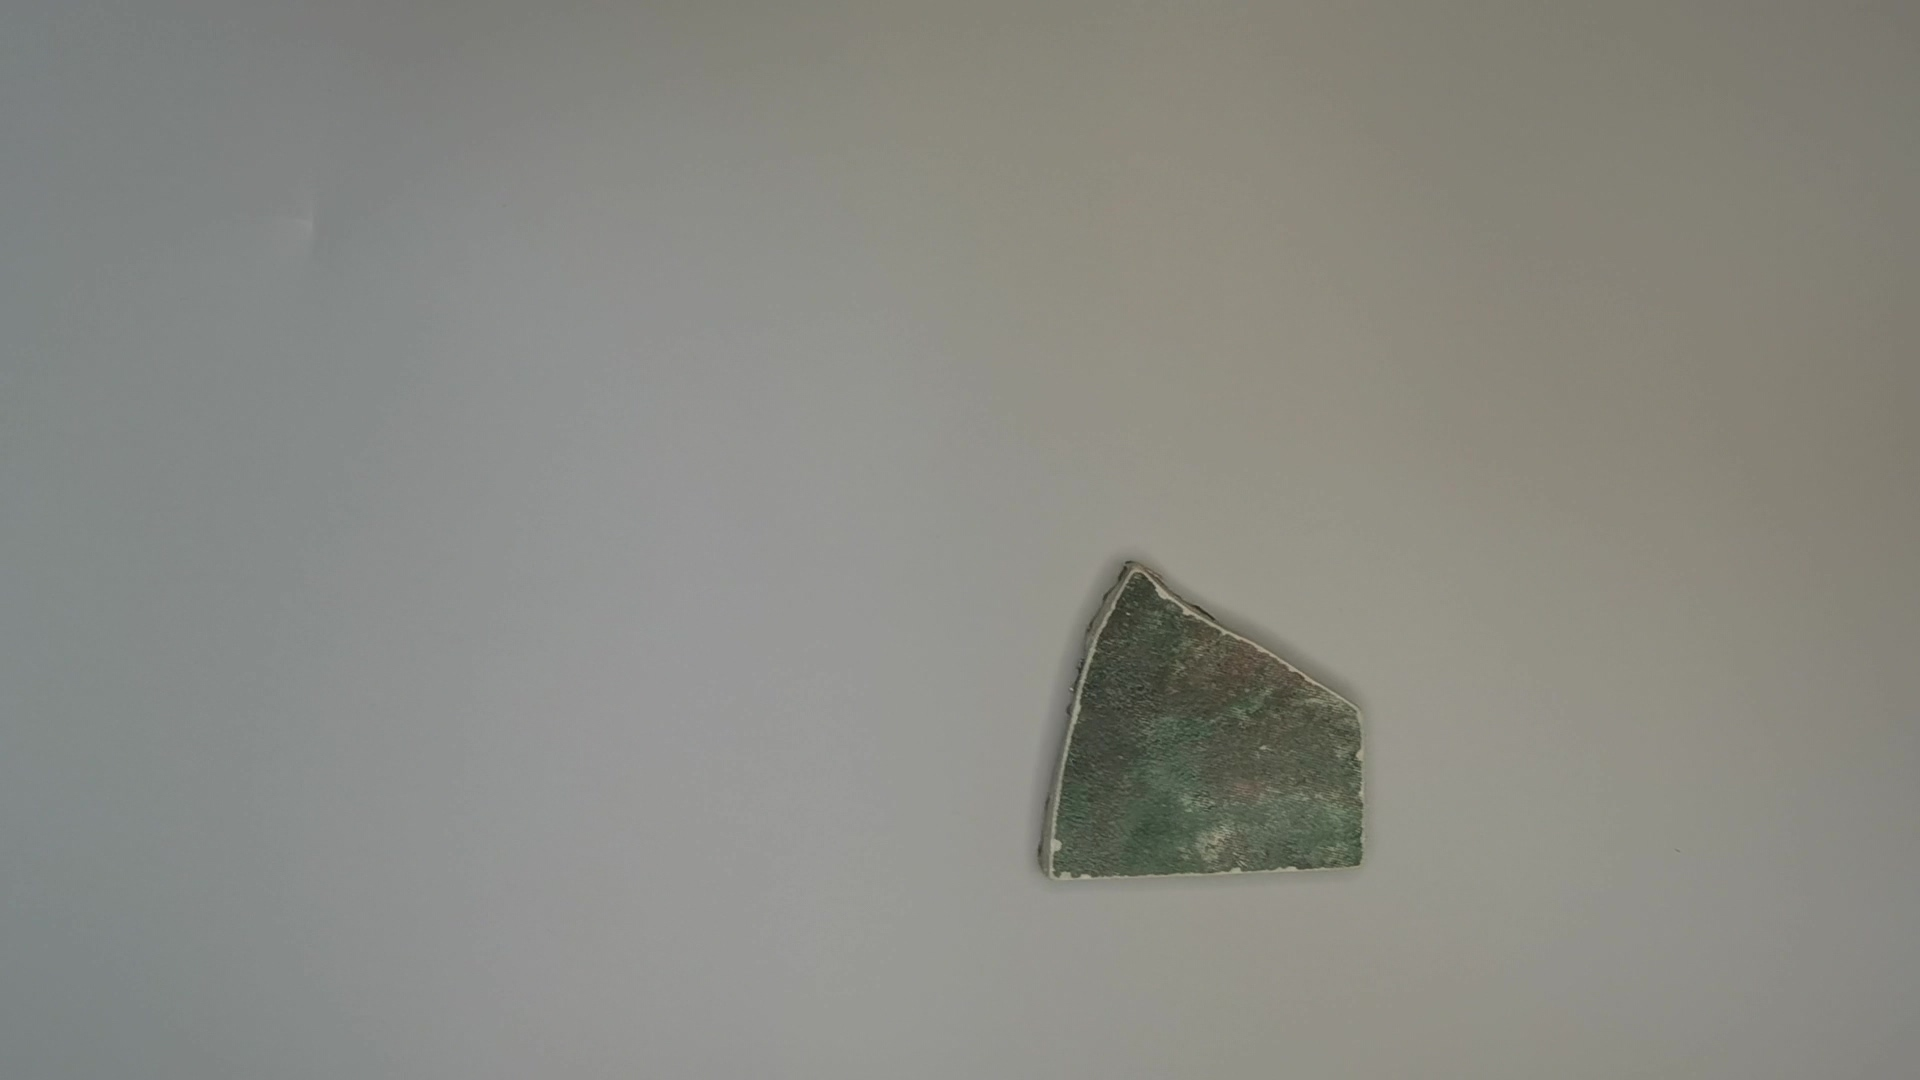ceramic: (1023, 553, 1381, 897)
